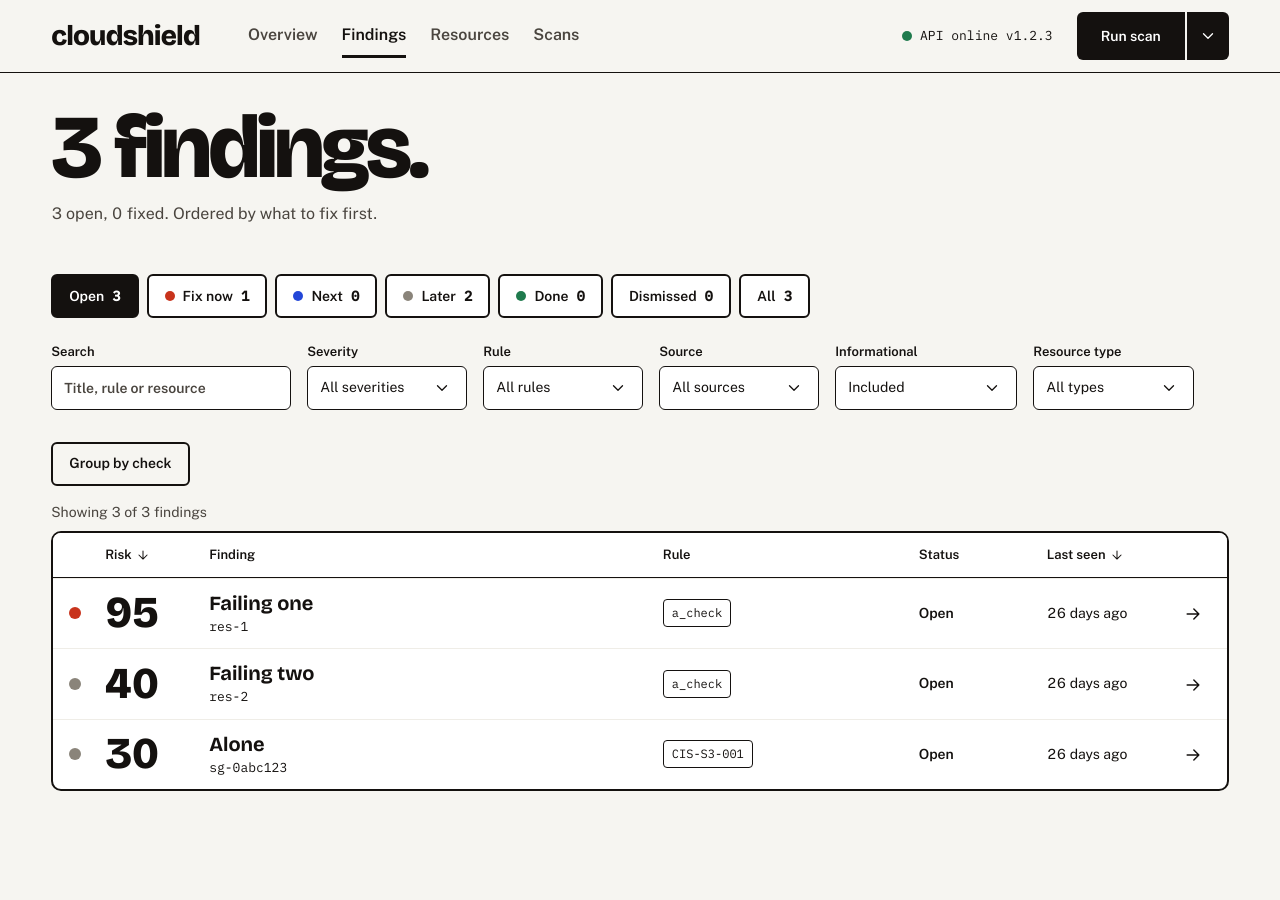
Scenario: Findings: table grid and grouping › collapses a repeated check into one row with a count, and expands to its resources
expect the table is shown: met, box [53,533,1227,789]
Click the button "Group by check".
click(120, 464)  # box [51,442,190,486]
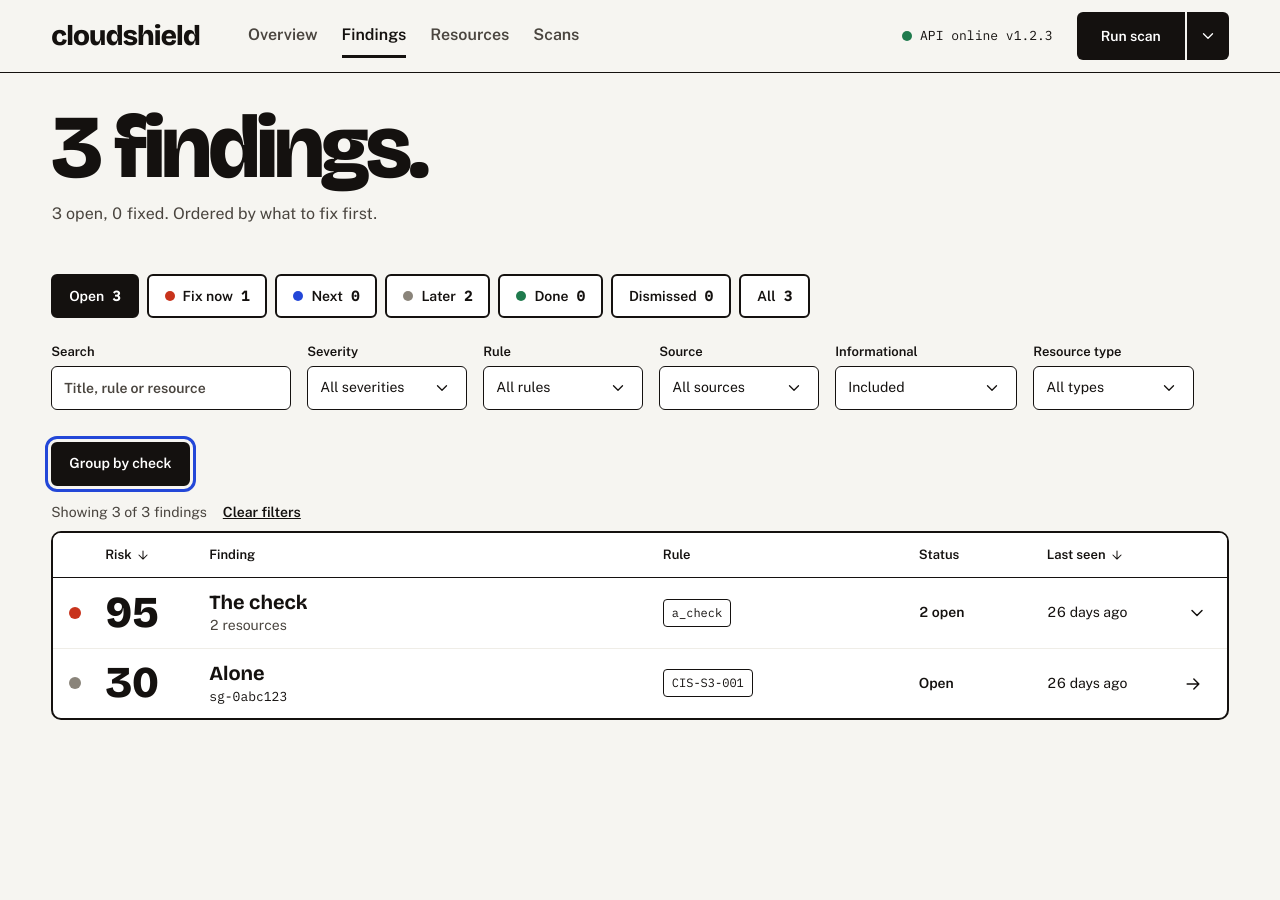
expect the text "a_check" is shown: met, box [663,599,731,627]
expect the text "2 resources" is shown: met, box [209,617,287,633]
expect the link "Failing one" is gone: met
Click the button named "Show the 2 resources".
click(1197, 613)  # box [1183,591,1211,635]
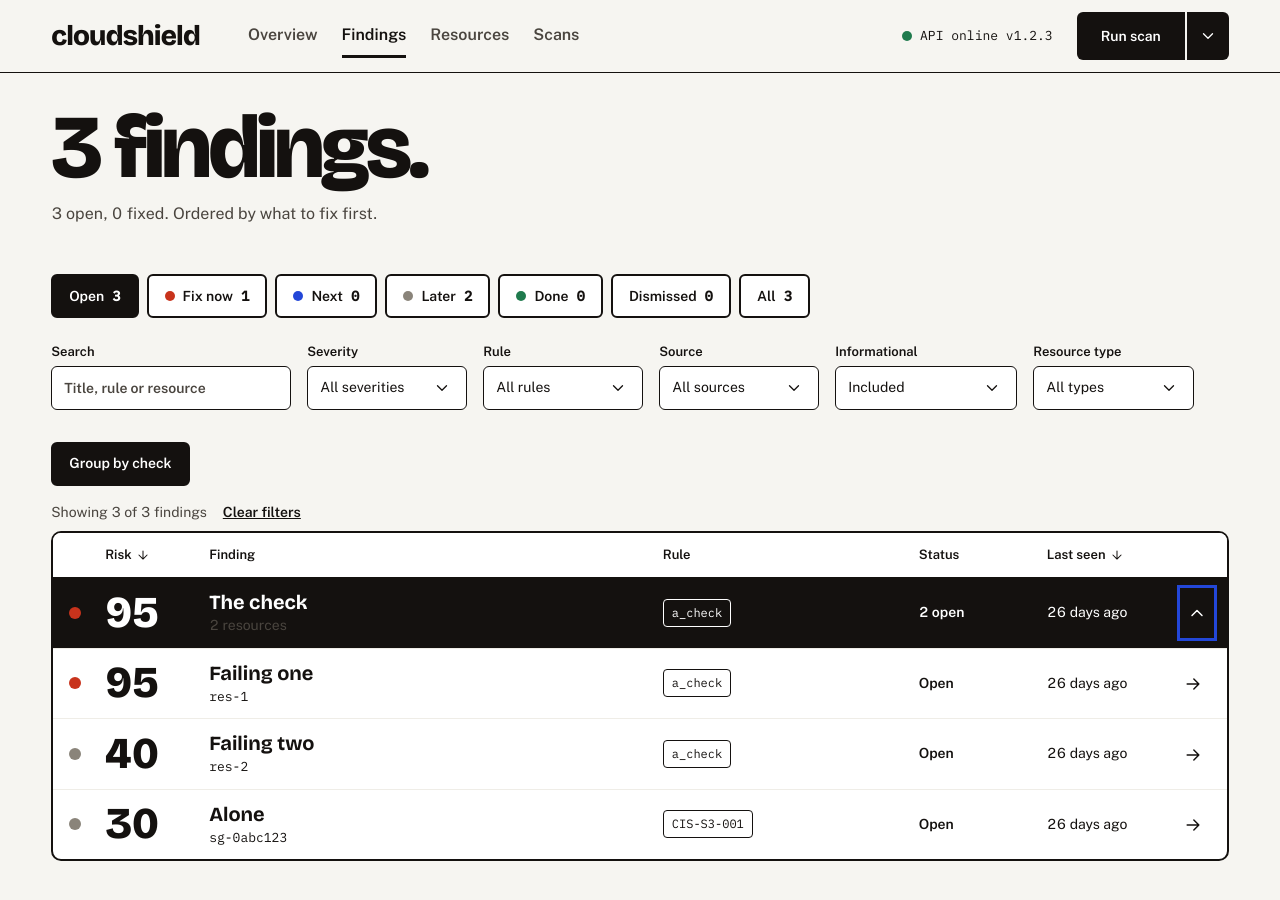
expect the button named "Show the 2 resources" is expanded: met, box [1183,591,1211,635]
expect the link "Failing one" is shown: met, box [209,661,313,685]
expect the link "Failing two" is shown: met, box [209,731,314,755]
